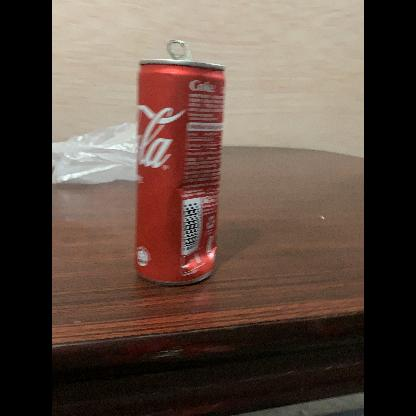Dent_Can: (186, 235, 216, 272), (175, 171, 212, 200)
Lid_Open: (160, 34, 196, 66)
Tin_Can: (127, 35, 229, 291)
